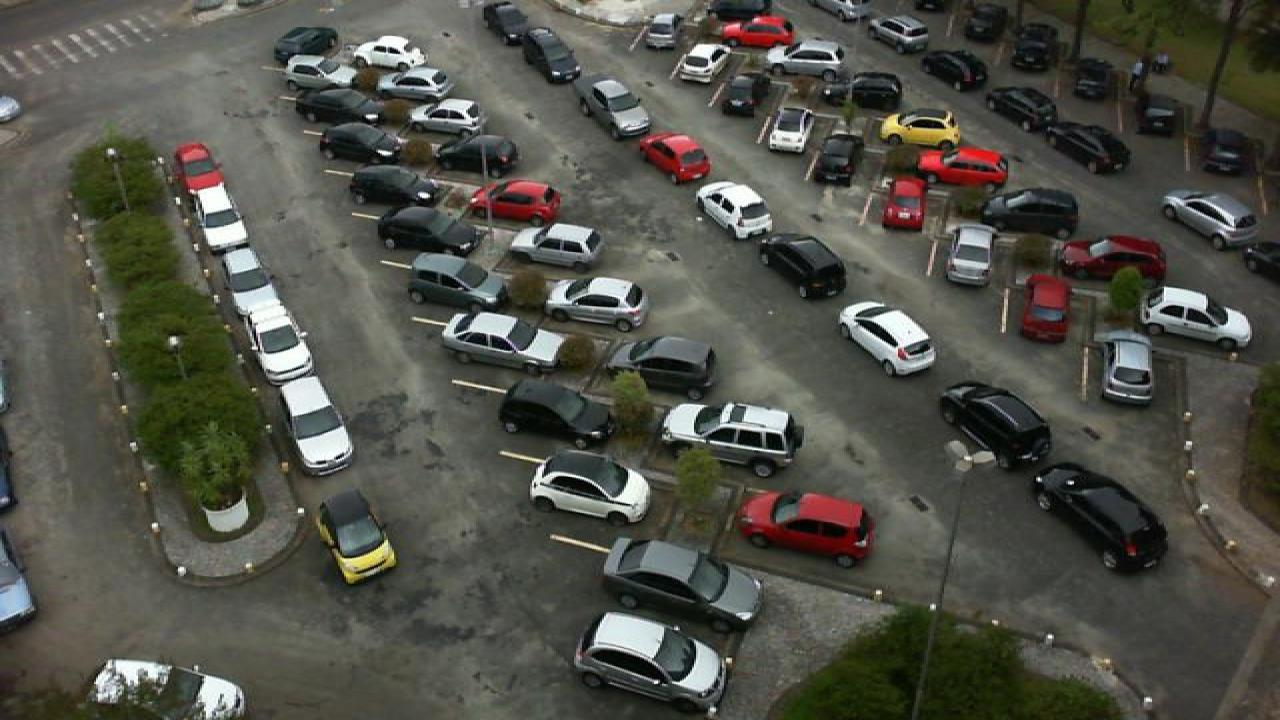Car: (572, 610, 728, 714), (602, 536, 766, 634), (1036, 463, 1172, 572), (658, 401, 806, 477), (734, 492, 876, 568), (936, 381, 1054, 469), (526, 448, 652, 528), (86, 658, 248, 720), (494, 377, 614, 450), (276, 372, 356, 478), (314, 488, 400, 585), (438, 310, 566, 375), (838, 299, 938, 378), (1138, 286, 1256, 352), (600, 332, 720, 396), (240, 300, 316, 386), (756, 233, 848, 301), (1056, 235, 1168, 289), (544, 275, 648, 333), (404, 251, 502, 310), (1158, 187, 1256, 243), (376, 206, 478, 258), (216, 245, 282, 324), (978, 186, 1082, 236), (690, 180, 774, 241), (464, 177, 564, 227), (576, 76, 652, 140), (506, 220, 604, 269), (1048, 120, 1132, 176), (910, 145, 1008, 189), (634, 132, 714, 184), (1102, 327, 1156, 404), (344, 163, 436, 208), (432, 132, 520, 178), (192, 187, 250, 255), (516, 25, 582, 84), (1018, 273, 1074, 342), (940, 224, 998, 290), (316, 119, 402, 163), (292, 84, 382, 125), (982, 87, 1056, 136), (170, 139, 224, 204), (876, 111, 960, 151), (762, 36, 846, 75), (408, 97, 486, 136), (920, 46, 986, 92), (280, 53, 356, 92), (348, 33, 426, 71), (812, 132, 866, 186), (1200, 125, 1256, 177), (716, 15, 798, 50), (864, 15, 934, 55), (380, 64, 454, 101), (764, 104, 814, 156), (672, 42, 730, 86), (882, 176, 928, 231), (270, 25, 340, 60), (480, 0, 530, 47), (1008, 24, 1056, 72), (1066, 57, 1112, 106), (844, 72, 902, 110), (1134, 89, 1180, 135), (638, 12, 682, 50)
